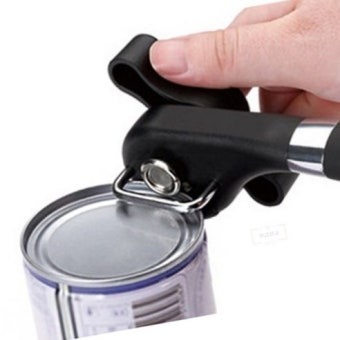paper: (14, 175, 236, 339)
